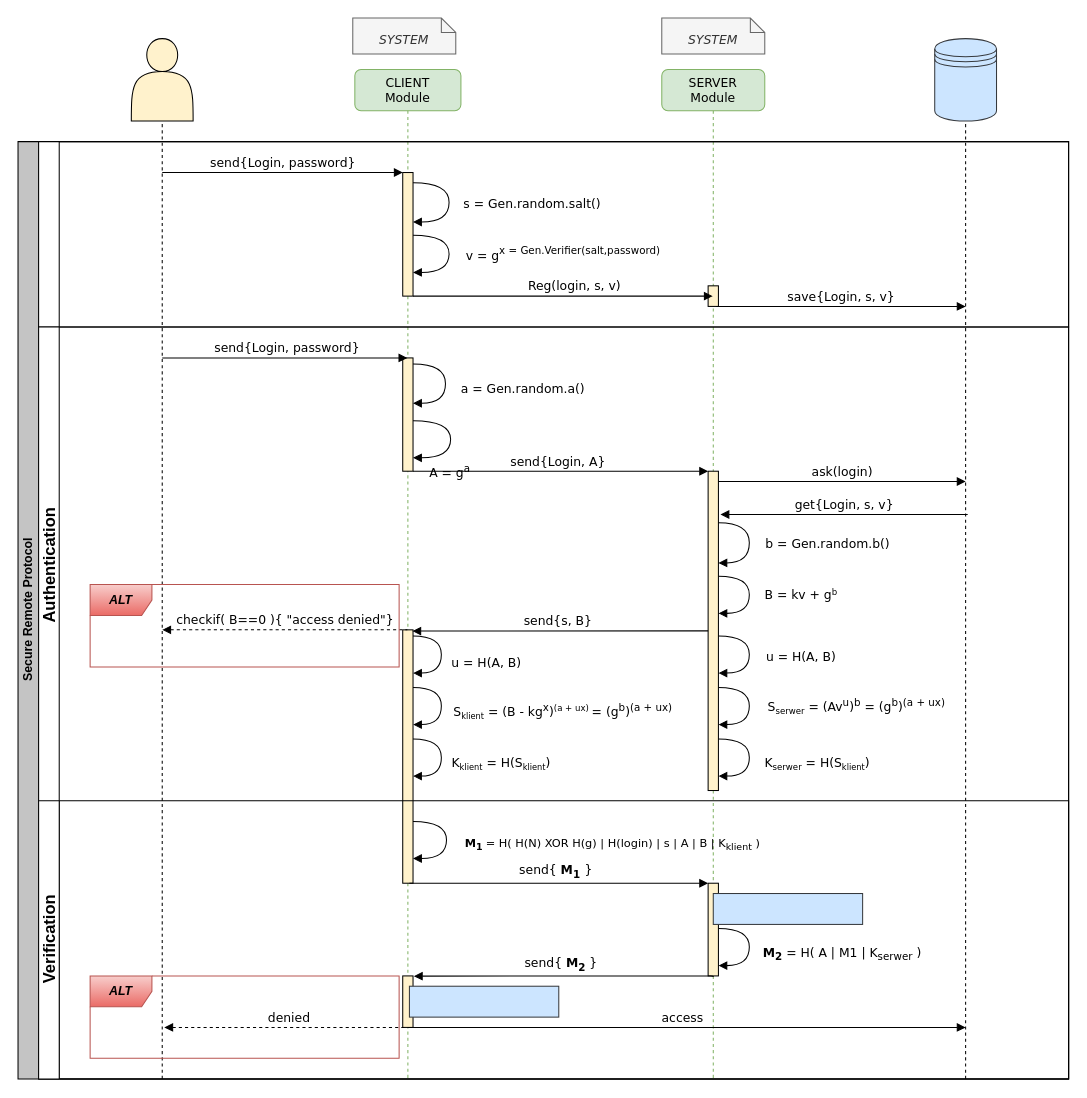
The diagram is 1087 pixels wide and 1098 high, and some of its shapes have lost their labels. Each missing label, with the centre of its shape:
"Data Base" goes at [965,79].
"Registration" goes at [553,234].
"User" goes at [161,79].
"Weryfikacja M1 dla bezpiecznego klucza K" goes at [787,908].
"Weryfikacja M2 dla bezpiecznego klucza K" goes at [483,1001].
